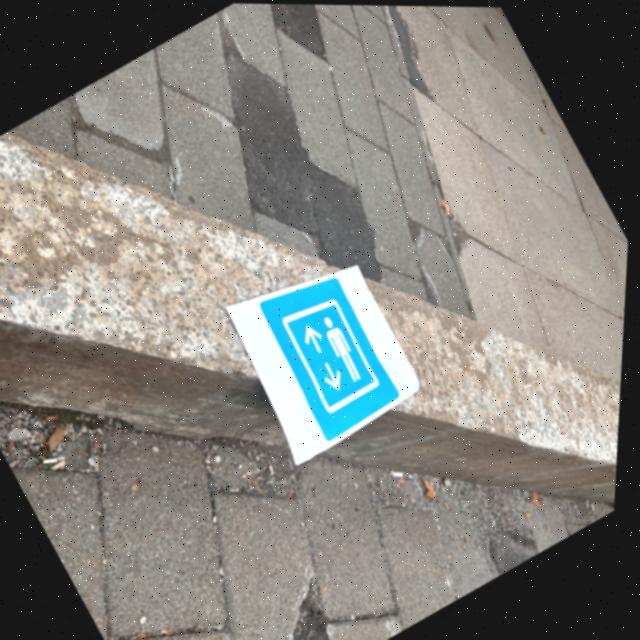elevator: (259, 277, 399, 441)
